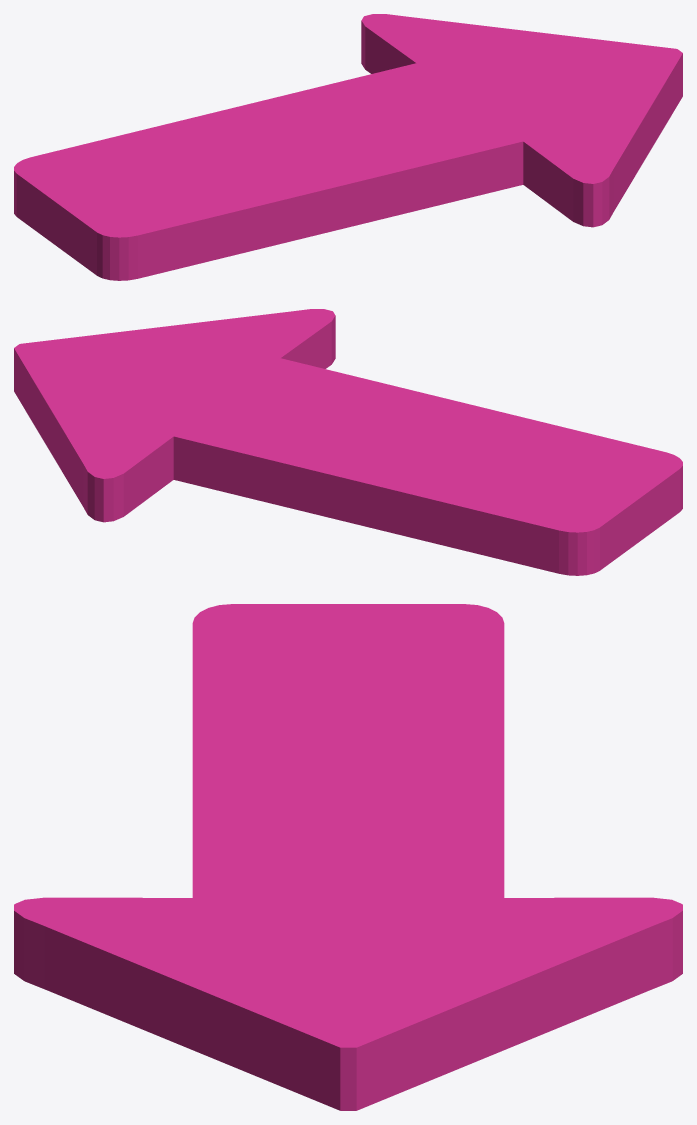
Rendered from arrow.fbx.
3 views of the same model, one above another, from view 1: azimuth 30°, elevation 25°; view 2: azimuth 150°, elevation 25°; view 3: azimuth 270°, elevation 25° (orthographic). The views are drawn at different scales.
Visible parts, largest first — view 1: Cube.001; view 2: Cube.001; view 3: Cube.001.
Boxes of the visible parts, x1,y1,x2,y2 form: Cube.001: [14, 14, 682, 280]; Cube.001: [14, 309, 682, 575]; Cube.001: [14, 604, 682, 1110].
Bounding box in the file's own units: 130 × 8.64 × 82.87.
